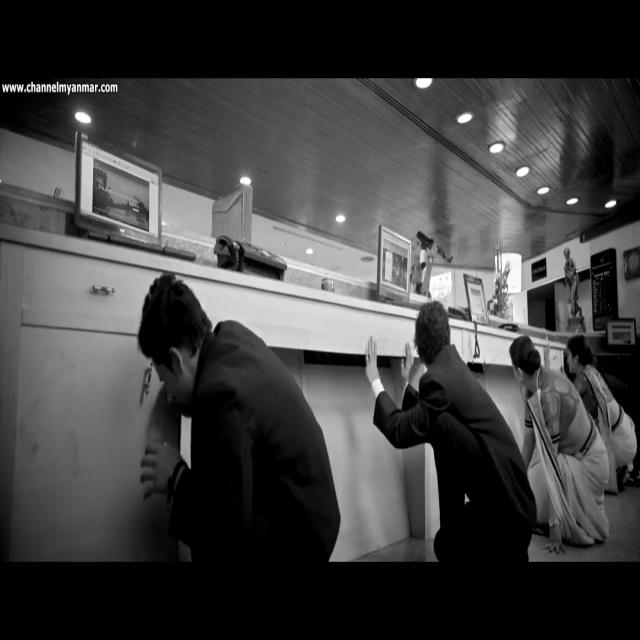gun: (416, 231, 453, 270)
